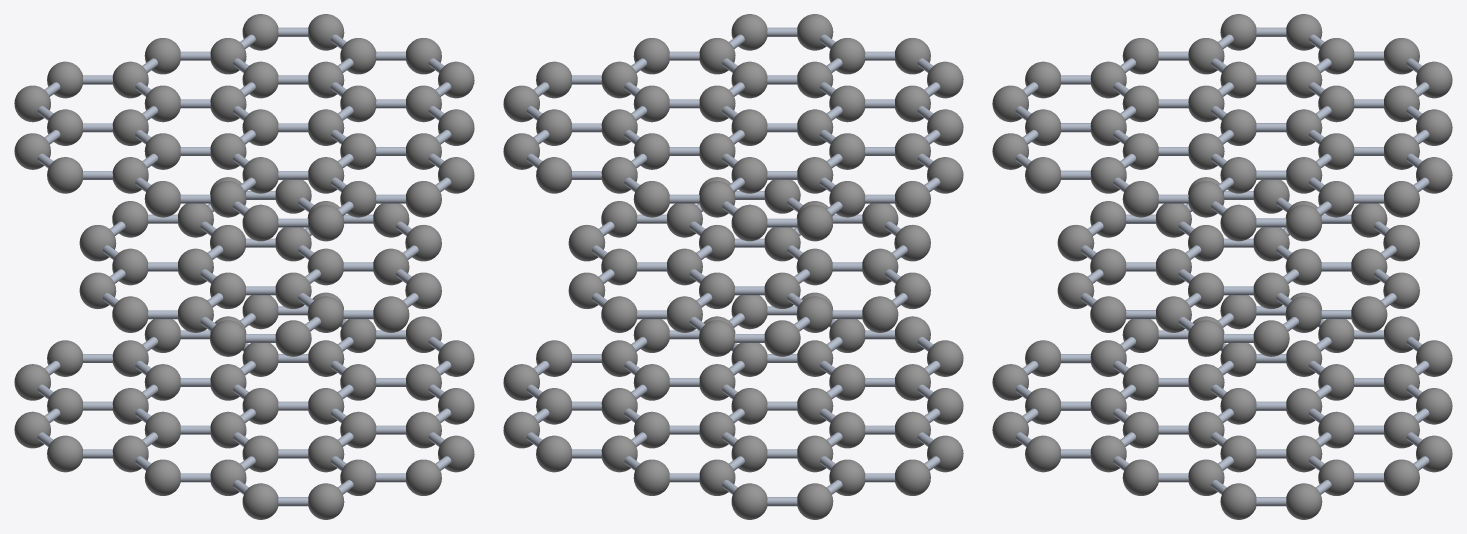
File: graphite.glb
3 views of the same model, side by side, from view 1: azimuth 30°, elevation 25°; view 2: azimuth 150°, elevation 25°; view 3: azimuth 270°, elevation 25° (orthographic).
Visible parts, largest first — view 1: C (×94); view 2: C (×94); view 3: C (×94).
Boxes of the visible parts, <box> form: C (×94): <box>14,14,474,519</box>; C (×94): <box>503,14,963,519</box>; C (×94): <box>992,14,1452,519</box>.
Bounding box in the file's own units: 0.22 × 0.1551 × 0.2074.
